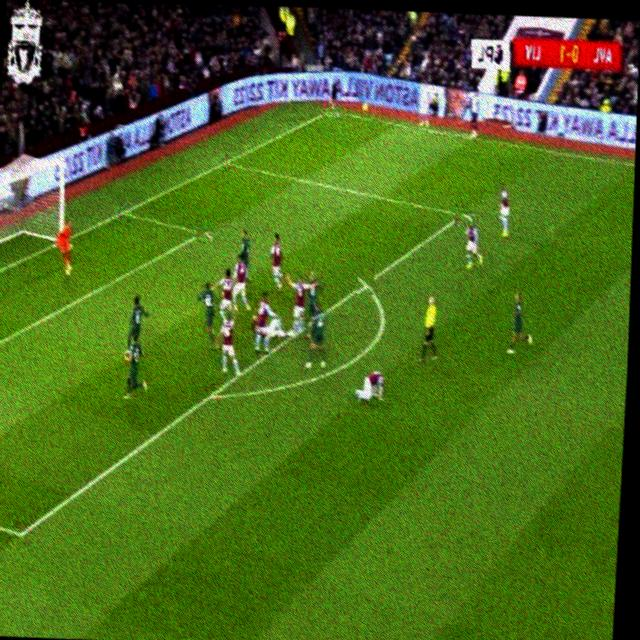bigarea_bottom_inner: (6, 513, 35, 550)
bigarea_top_inner: (454, 203, 473, 225)
bigarea_top_outter: (219, 152, 236, 170)
bottom_arc_area_intersection: (201, 381, 223, 408)
corner: (321, 102, 340, 118)
smallarea_top_inner: (194, 220, 213, 242)
smallarea_top_outter: (114, 200, 132, 222)
top_arc_area_intersection: (356, 273, 373, 294)
